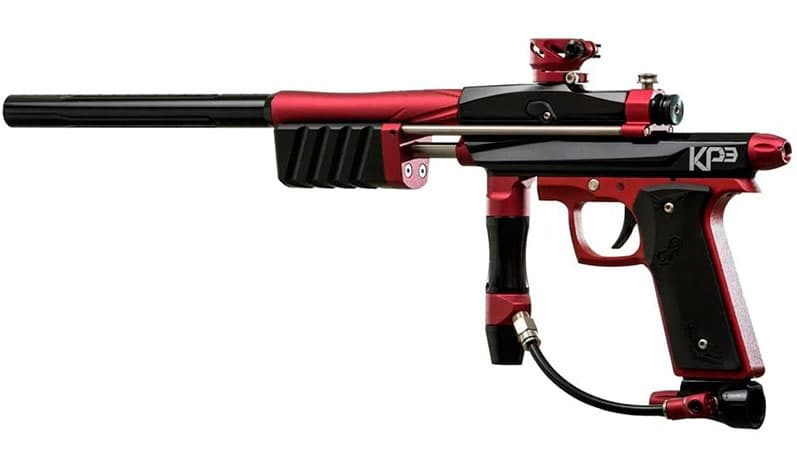Arma Falsa: (1, 34, 790, 435)
